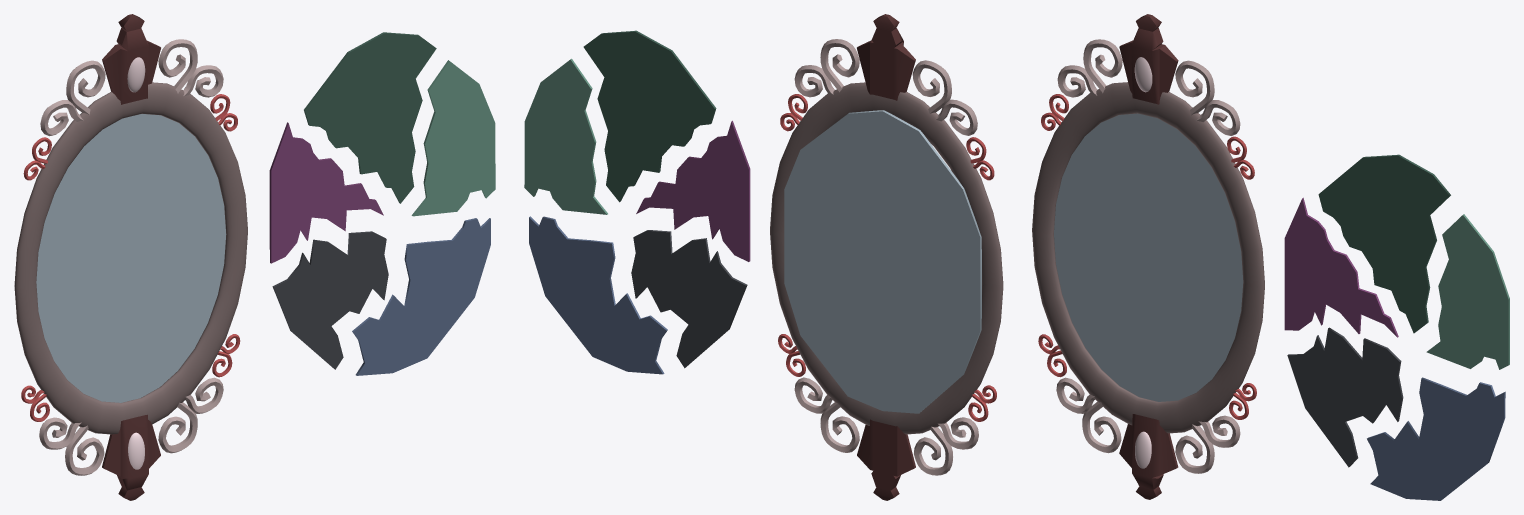
File: Mirror_MainFBX_UVDone.fbx
The picture shows the model from 3 angles, left to right: view 1: azimuth 30°, elevation 25°; view 2: azimuth 150°, elevation 25°; view 3: azimuth 330°, elevation 25°; orthographic projection.
Visible parts, largest first — view 1: Mirror, Shard4, Shard1, Shard2, Shard5, Shard3; view 2: Mirror, Shard4, Shard1, Shard2, Shard5, Shard3; view 3: Mirror, Shard4, Shard1, Shard2, Shard5, Shard3.
Part boxes in pixels (<box>): Mirror: <box>14,14,247,500</box>; Shard4: <box>304,32,436,203</box>; Shard1: <box>352,218,490,375</box>; Shard2: <box>272,231,388,369</box>; Shard5: <box>411,60,495,216</box>; Shard3: <box>269,122,383,263</box>; Mirror: <box>770,14,1003,500</box>; Shard4: <box>583,30,716,202</box>; Shard1: <box>529,216,667,374</box>; Shard2: <box>631,230,747,368</box>; Shard5: <box>524,58,607,214</box>; Shard3: <box>636,120,750,261</box>; Mirror: <box>1032,14,1264,499</box>; Shard4: <box>1318,154,1450,333</box>; Shard1: <box>1367,377,1505,500</box>; Shard2: <box>1287,327,1403,467</box>; Shard5: <box>1426,214,1509,369</box>; Shard3: <box>1284,197,1398,337</box>.
Size of the model in its own units: 38 by 36.7 by 1.54.
